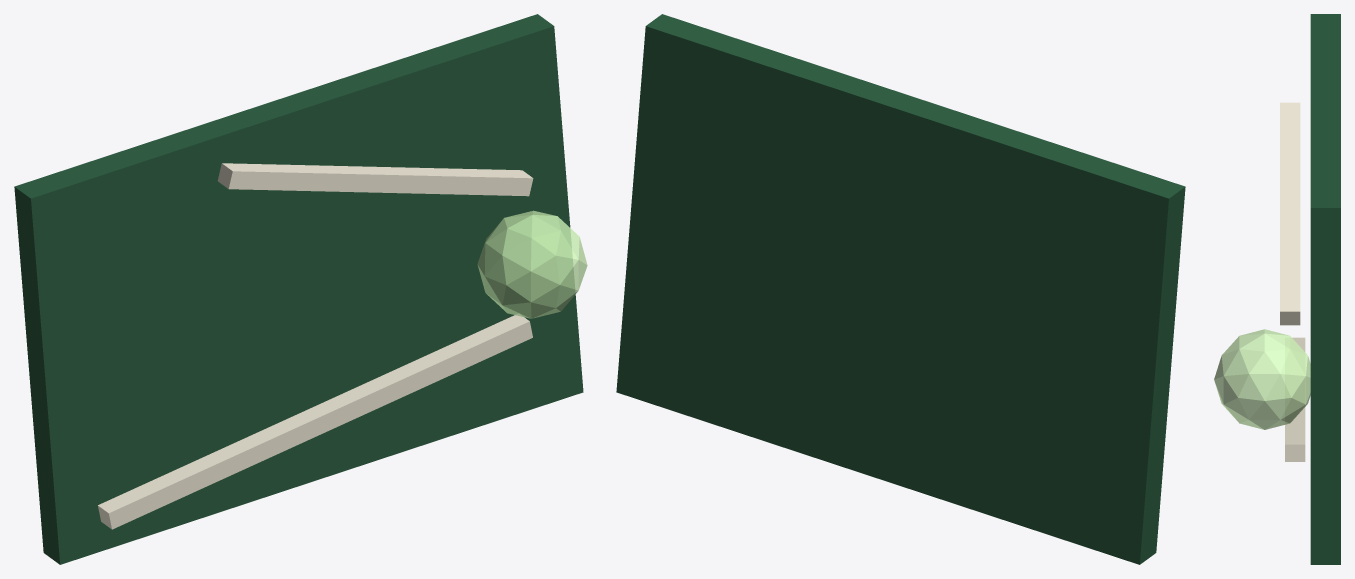
Rendered from 02_world_prop_polish.glb.
3 renders of one model, left to right at view 1: azimuth 30°, elevation 25°; view 2: azimuth 150°, elevation 25°; view 3: azimuth 270°, elevation 25°, orthographic. The views are drawn at different scales.
Visible parts, largest first — view 1: object_overlay_plate, edge_wear_a, glow_socket, edge_wear_b; view 2: object_overlay_plate; view 3: object_overlay_plate, glow_socket, edge_wear_b, edge_wear_a.
Part boxes in pixels (x1,y1,x2,y2): object_overlay_plate: (14,14,583,564); edge_wear_a: (98,314,532,529); glow_socket: (477,210,587,318); edge_wear_b: (217,163,533,196); object_overlay_plate: (616,14,1185,564); object_overlay_plate: (1310,14,1340,564); glow_socket: (1214,329,1310,429); edge_wear_b: (1280,102,1300,325); edge_wear_a: (1285,337,1305,461).
Size of the model in its own units: 1.16 by 0.8374 by 0.25.
